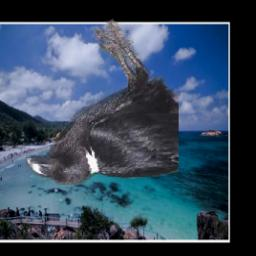Crow: (26, 19, 179, 185)
